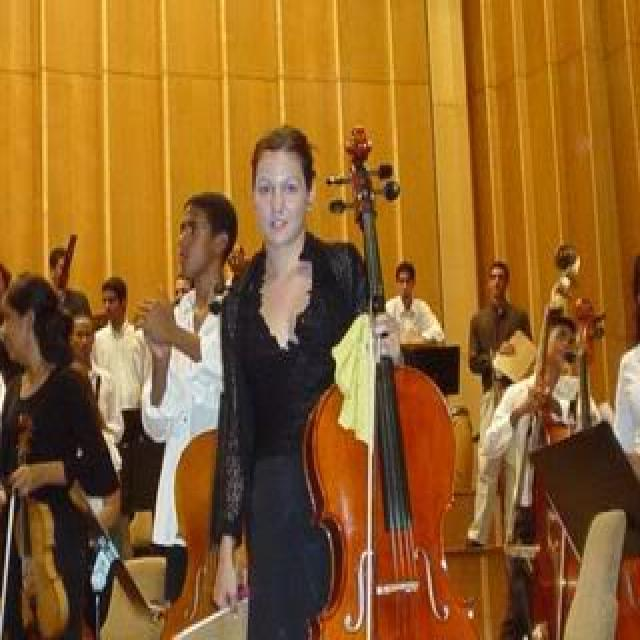cello: (292, 120, 470, 640), (530, 280, 624, 590)
violin: (2, 409, 68, 640)
